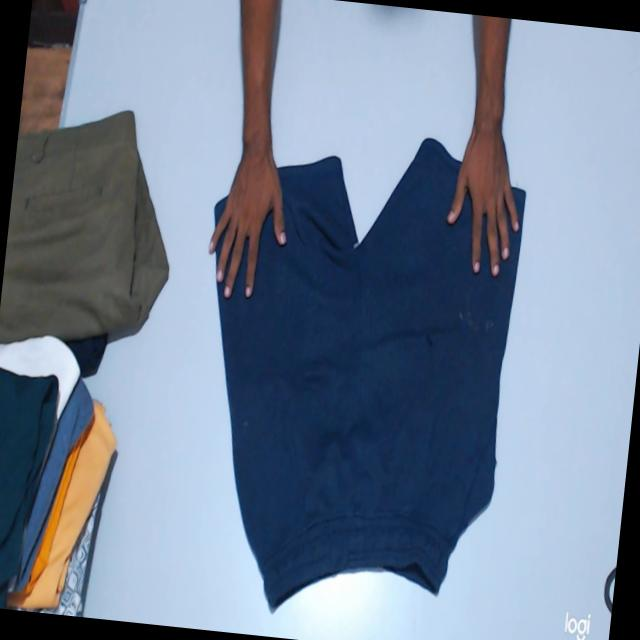new-garment: (218, 138, 520, 607), (218, 139, 519, 606), (213, 196, 228, 224)
